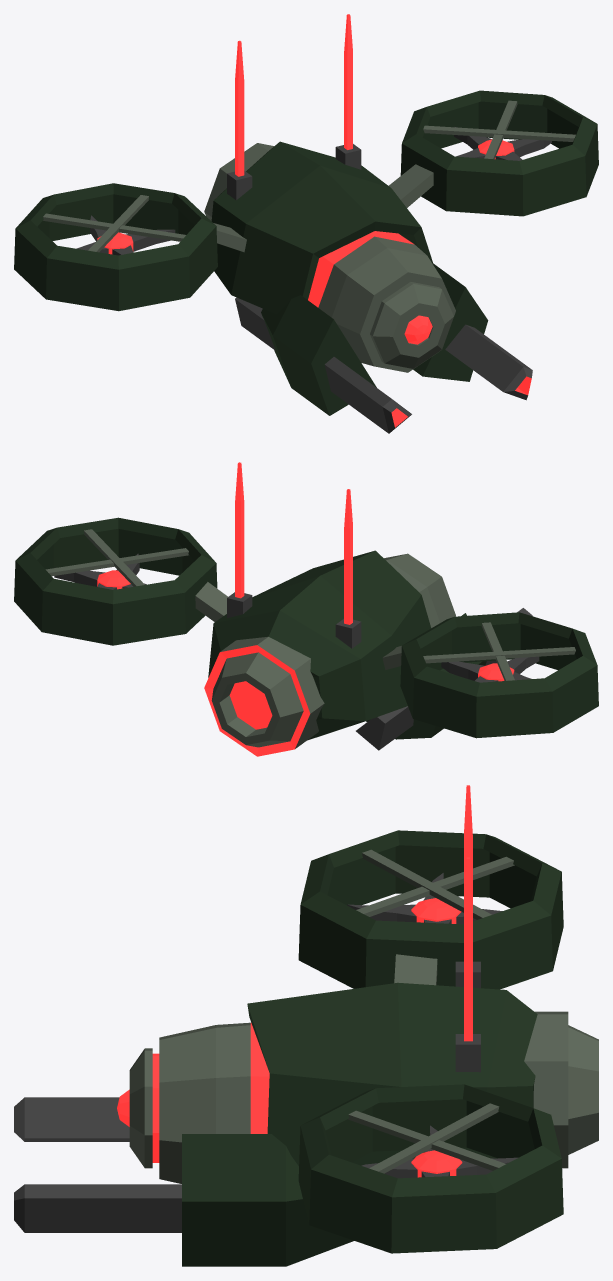
The model's file is drone.glb.
The picture shows the model from 3 angles, top to bottom: view 1: azimuth 30°, elevation 25°; view 2: azimuth 150°, elevation 25°; view 3: azimuth 270°, elevation 25°; orthographic projection. The views are drawn at different scales.
Visible parts, largest first — view 1: Drone; view 2: Drone; view 3: Drone.
Part boxes in pixels (<box>): Drone: <box>14,14,598,433</box>; Drone: <box>14,462,598,756</box>; Drone: <box>14,785,598,1266</box>.
Size of the model in its own units: 5.77 by 2.93 by 3.9.
